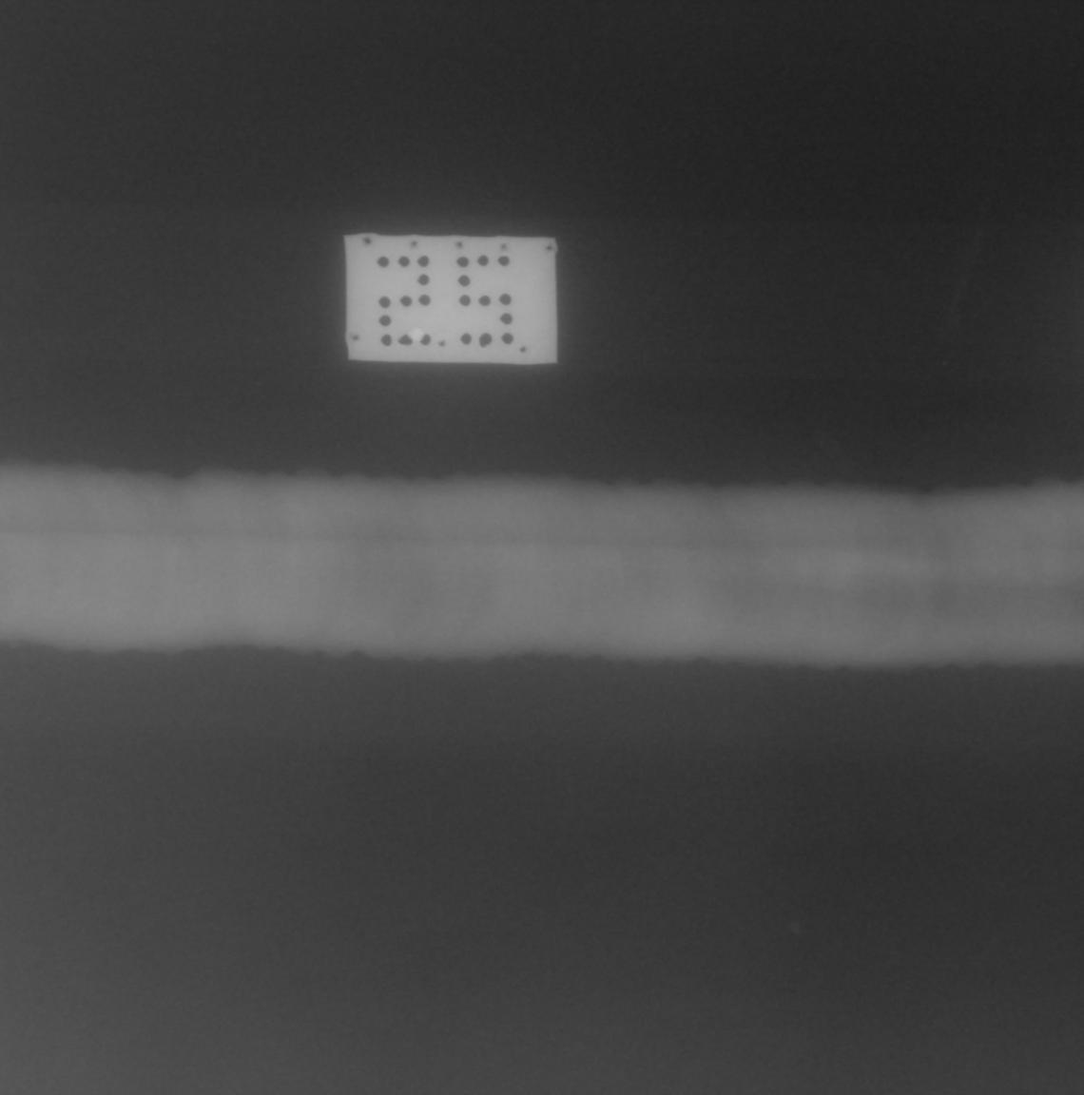Pore/Porosity: (380, 589, 388, 596)
